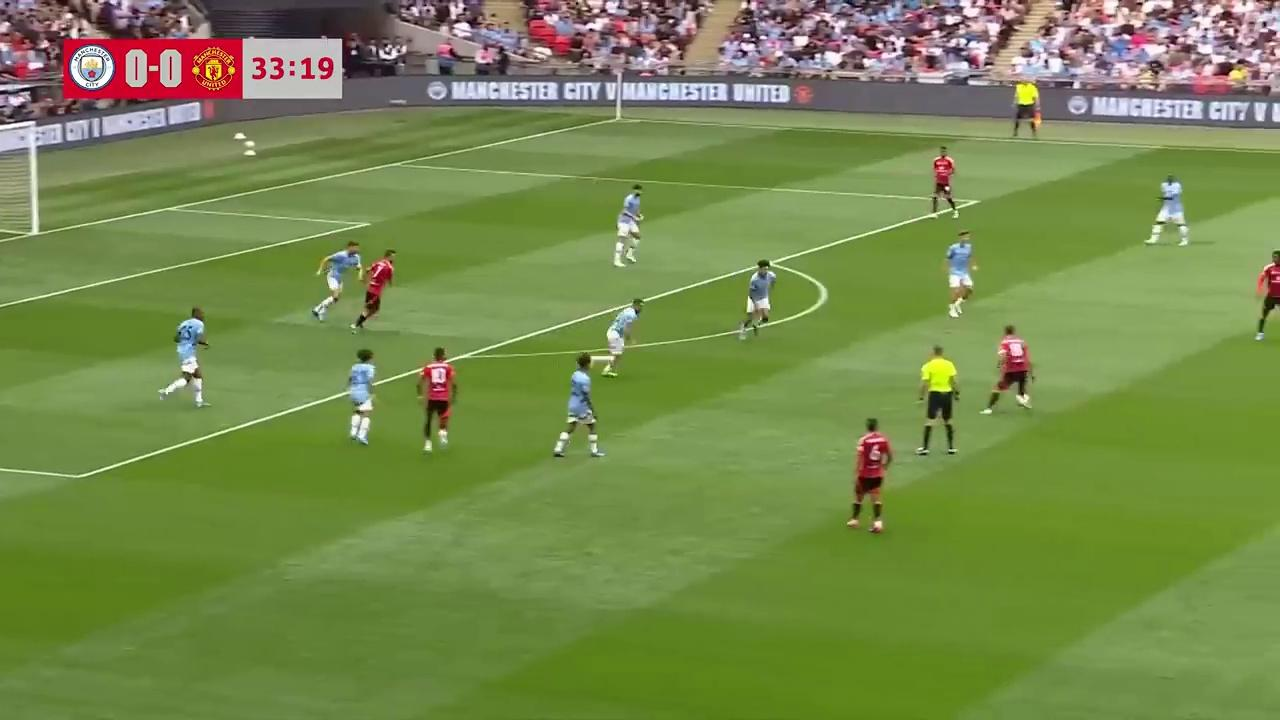player: (845, 417, 894, 535), (552, 352, 605, 459), (157, 306, 210, 409), (982, 324, 1036, 415), (416, 347, 457, 454), (312, 246, 358, 321), (1145, 174, 1190, 247), (737, 260, 776, 340), (944, 229, 978, 317), (346, 348, 376, 446), (604, 299, 642, 376), (356, 249, 394, 326), (1253, 251, 1280, 341), (613, 187, 642, 267), (930, 146, 958, 218)
referee: (916, 343, 960, 458), (1010, 78, 1042, 141)
